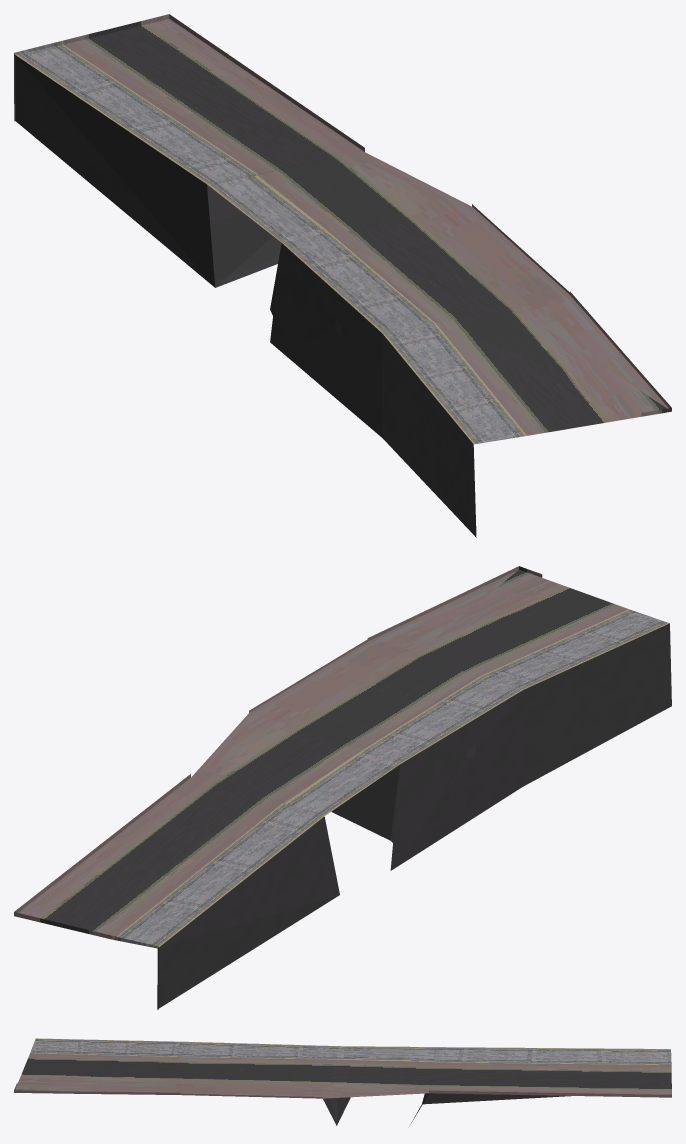
Rendered from lodlae2_roads80.obj.
3 renders of one model, top to bottom at view 1: azimuth 30°, elevation 25°; view 2: azimuth 150°, elevation 25°; view 3: azimuth 270°, elevation 25°, orthographic. The views are drawn at different scales.
Visible parts, largest first — view 1: LODLae2_roads80; view 2: LODLae2_roads80; view 3: LODLae2_roads80.
Boxes of the visible parts, box(x1,y1,x2,y2) form: LODLae2_roads80: box(14, 14, 671, 537); LODLae2_roads80: box(14, 566, 671, 1009); LODLae2_roads80: box(14, 1038, 671, 1125).
Size of the model in its own units: 44.83 by 21.24 by 179.
Materials: 3 (3 with a texture image).
